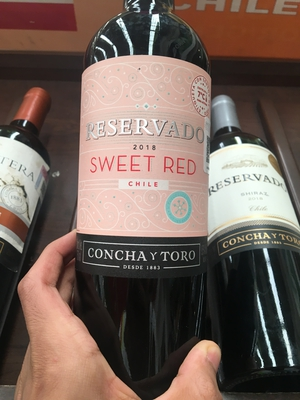reservado sweet red: (70, 15, 216, 392)
